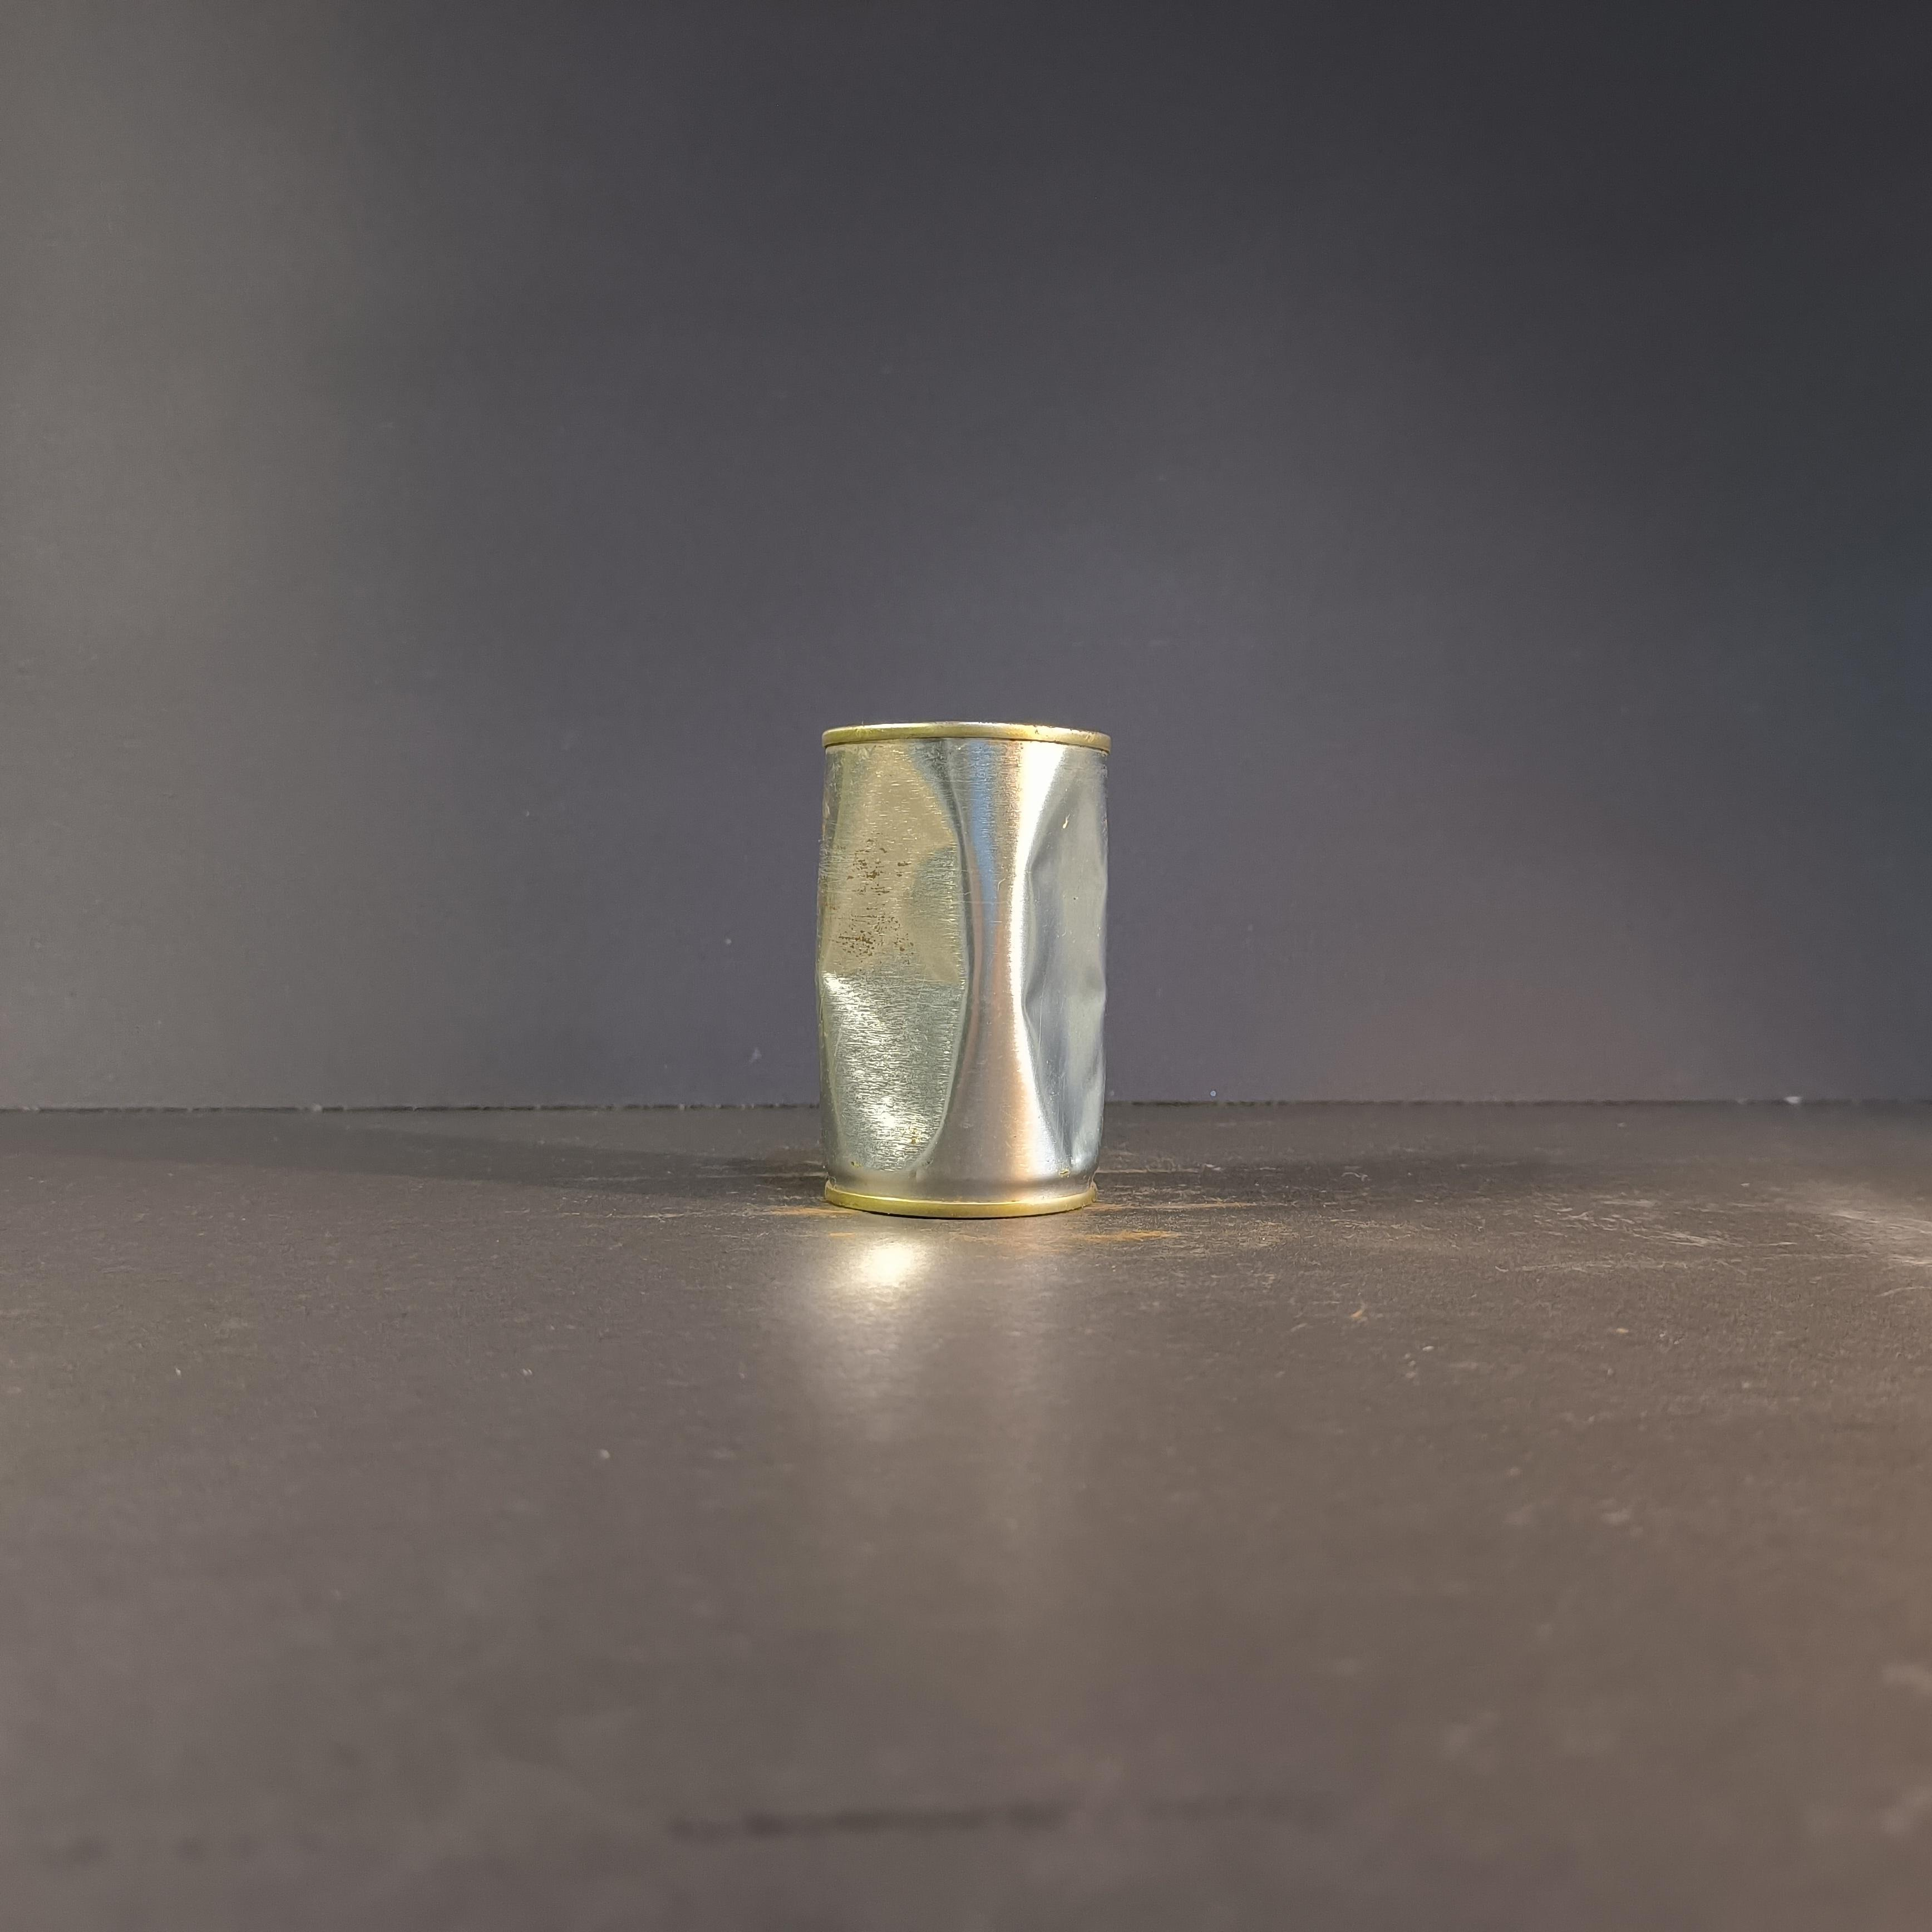Dented: (784, 694, 1129, 1228)
